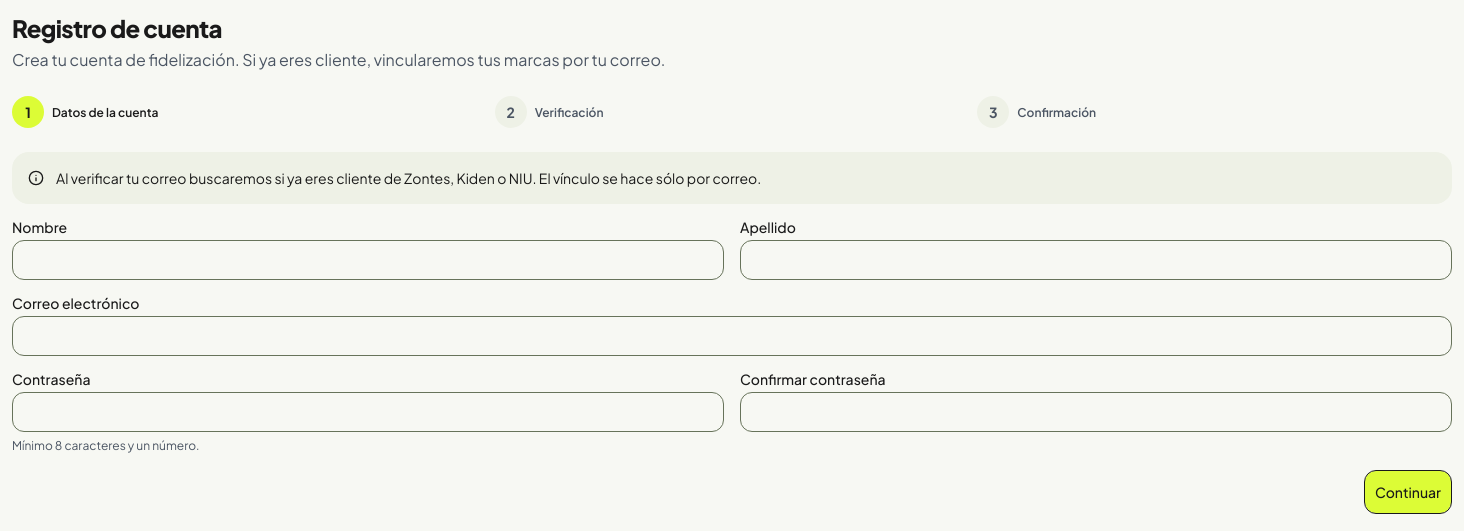
Test: F1-FE-01 · registro por pasos (UI-02, C10/C09) › crea la cuenta y pasa a verificación del correo
The image size is (1464, 531).
Type "Ana" into the field labelled "Nombre" at (368, 260), box [12,240,724,280]
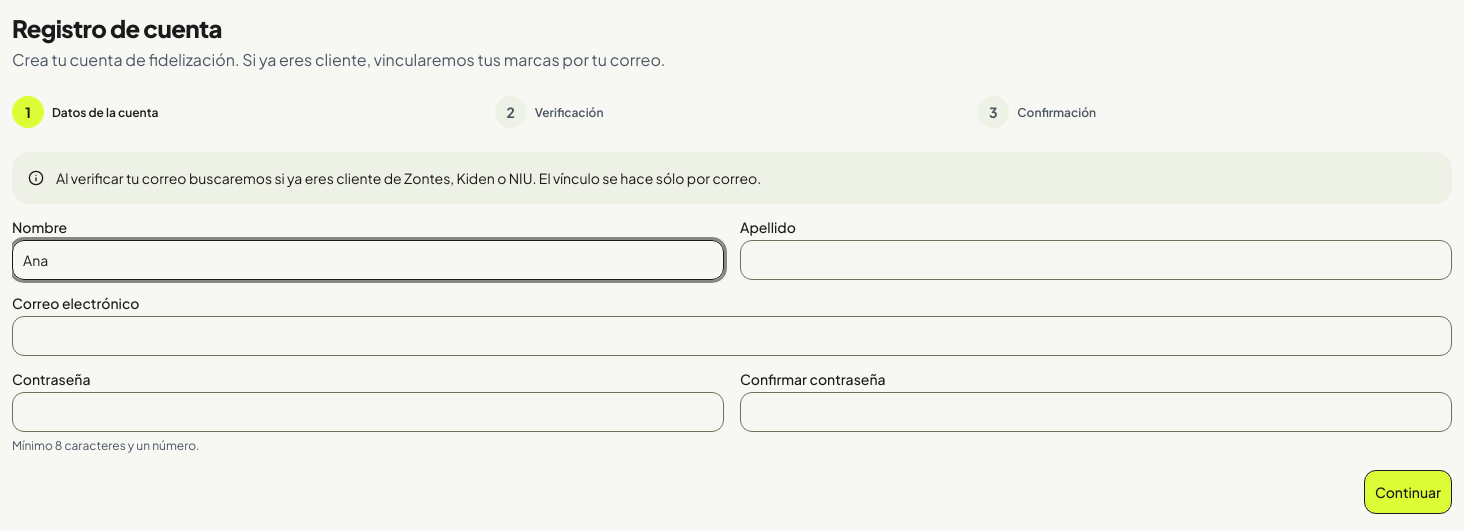
Type "Prueba" into the field labelled "Apellido" at (1096, 260), box [740,240,1452,280]
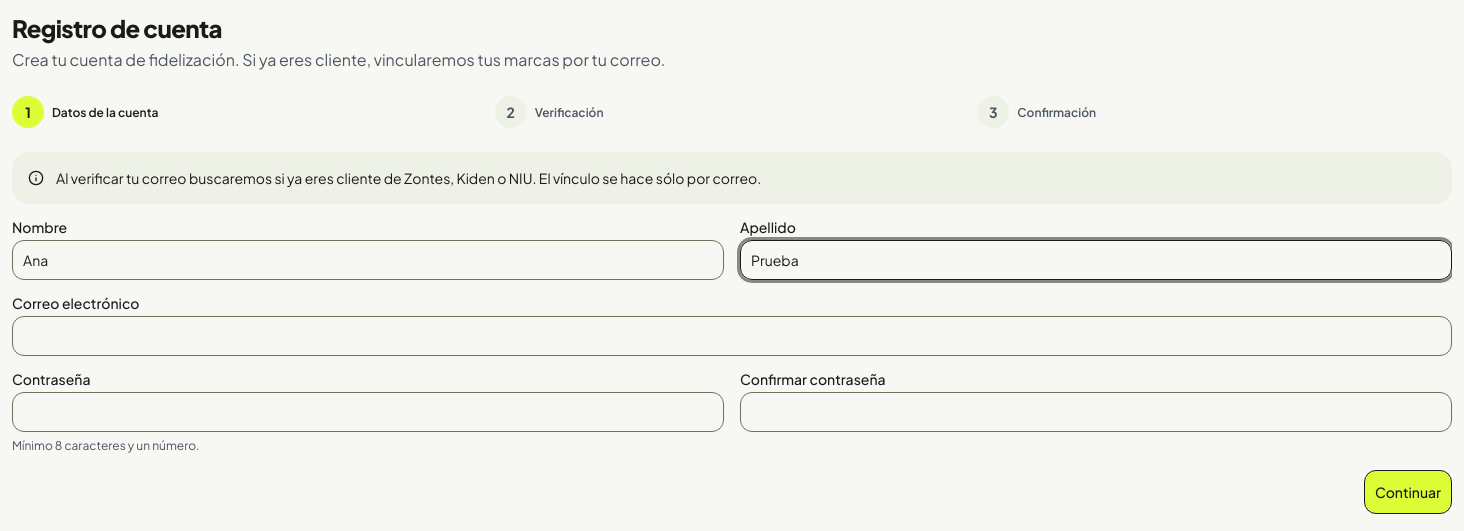
Type "cliente.multimarca@ejemplo.test" into the field labelled "Correo electrónico" at (732, 336), box [12,316,1452,356]
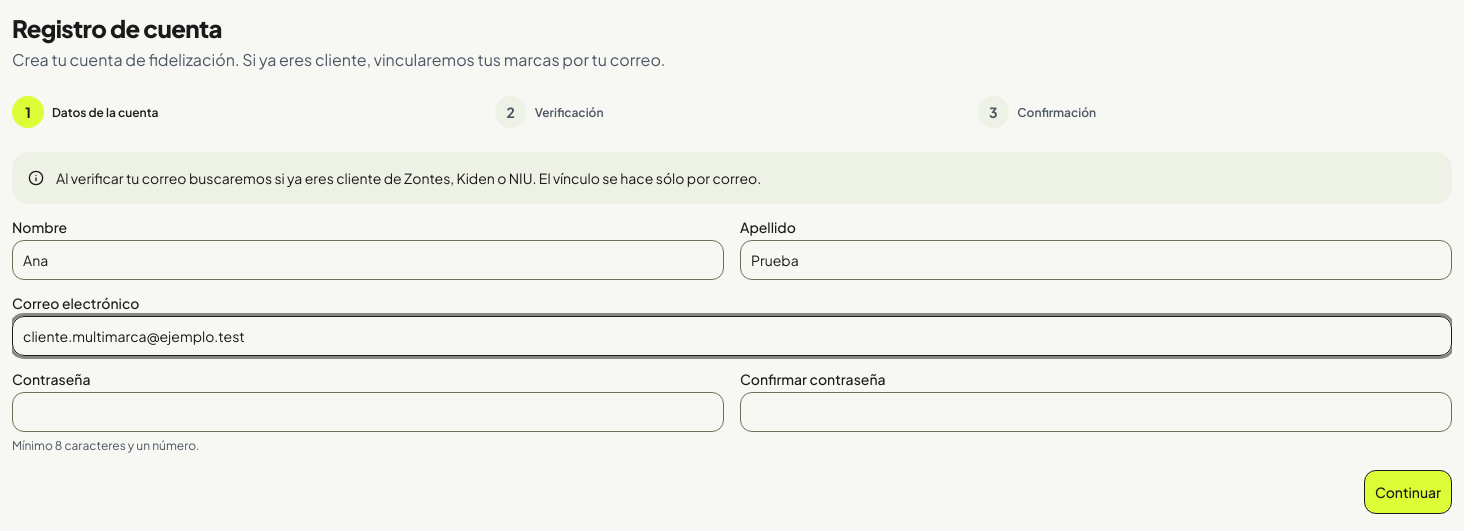
Type "segura123" into the password field labelled "Contraseña" at (368, 412), box [12,392,724,432]
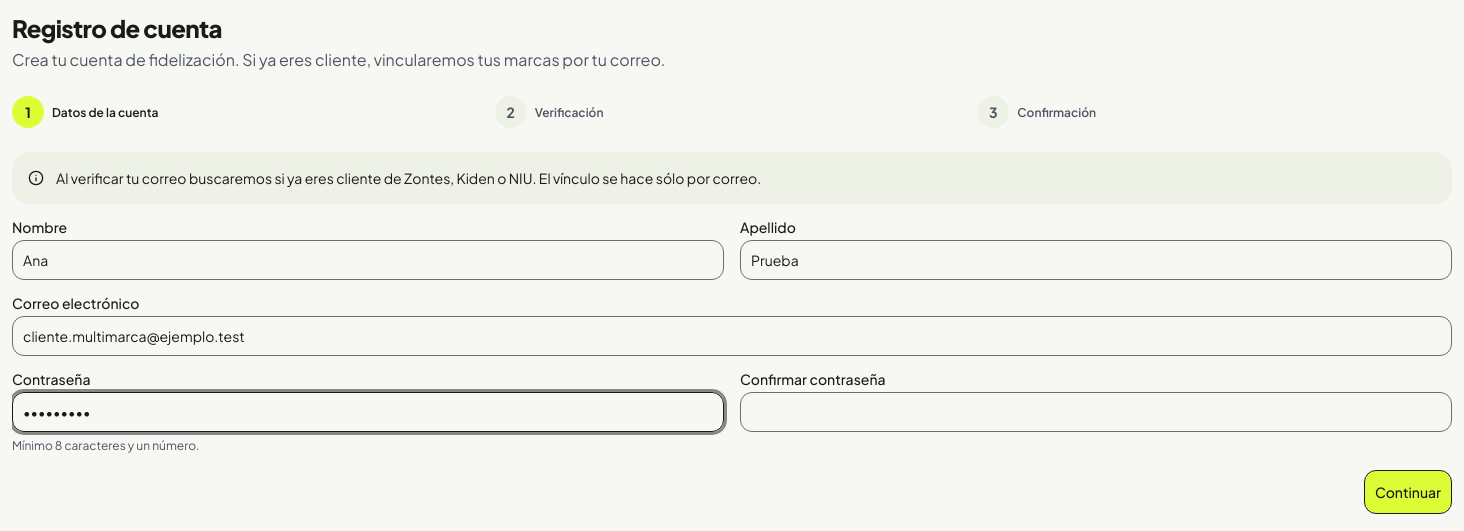
Type "segura123" into the password field labelled "Confirmar contraseña" at (1096, 412), box [740,392,1452,432]
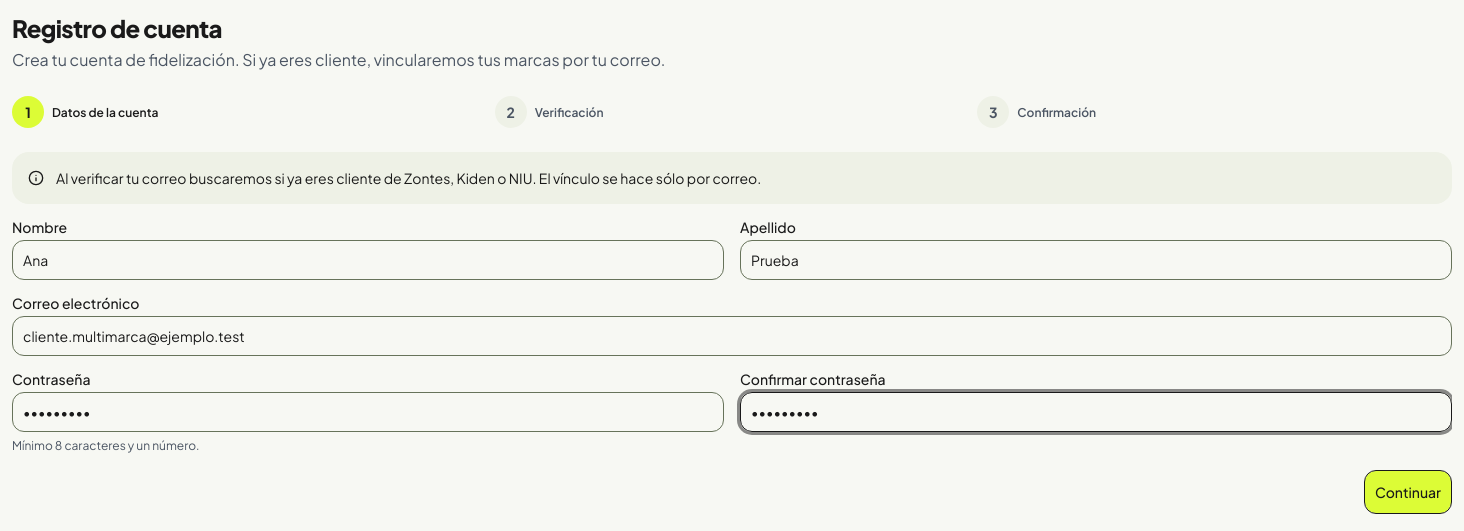
Click the button "Continuar" at (1408, 492), box [1364,470,1452,514]
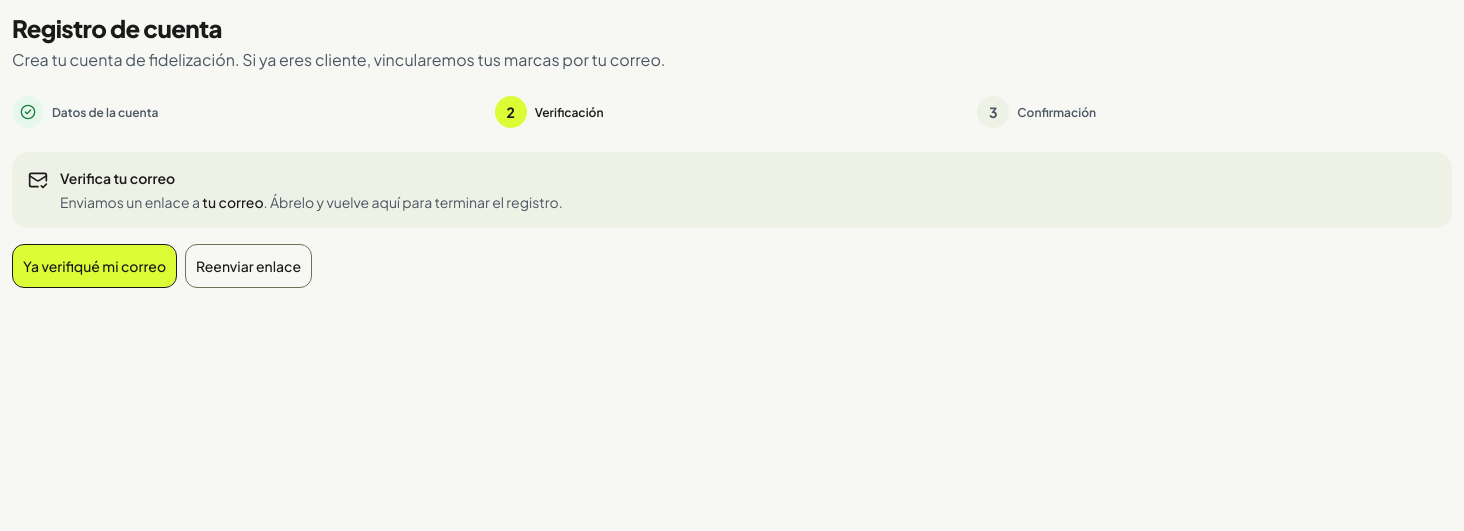
expect the text "Verifica tu correo" is shown: met, box [60,169,175,187]
